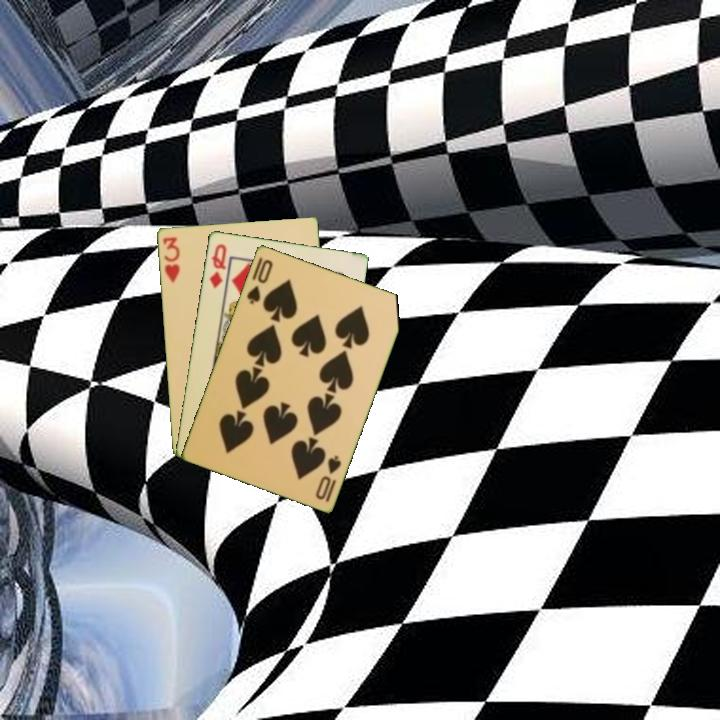10s: (312, 451, 344, 505), (243, 255, 276, 307)
3h: (159, 233, 182, 285)
Qd: (205, 240, 229, 291)
